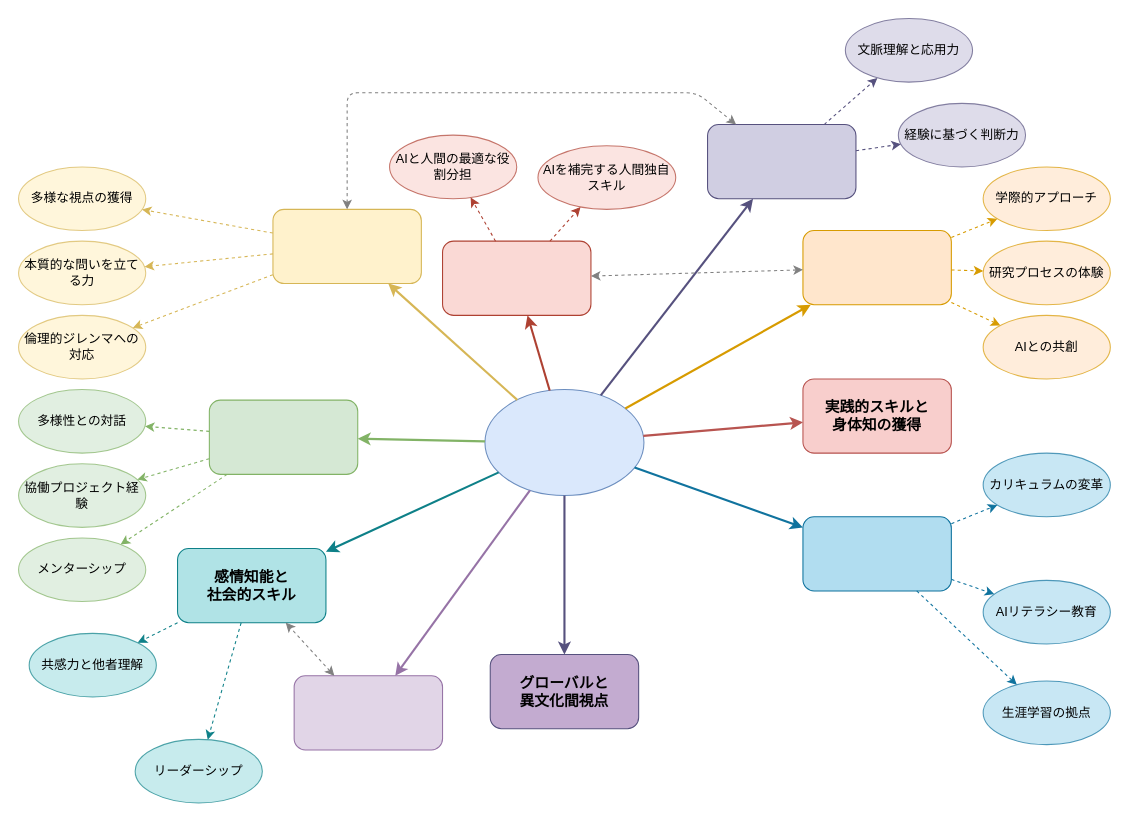
Image size: 1129x821. Some labels were removed from this diagram. Here are the shapes that lost their labels. From the top down, the centre of each, then its label:
pixel 781 161: 知識と知恵の区別
pixel 346 246: 批判的思考と 倫理的判断力
pixel 516 277: テクノロジーと人間の 統合スキル
pixel 876 267: 知識の創造と拡張
pixel 283 436: 人間関係と コミュニティ形成
pixel 564 442: AI時代における 大学教育の意義
pixel 876 553: 大学教育の 新たな方向性
pixel 368 712: 自己発見と 人間的成長
